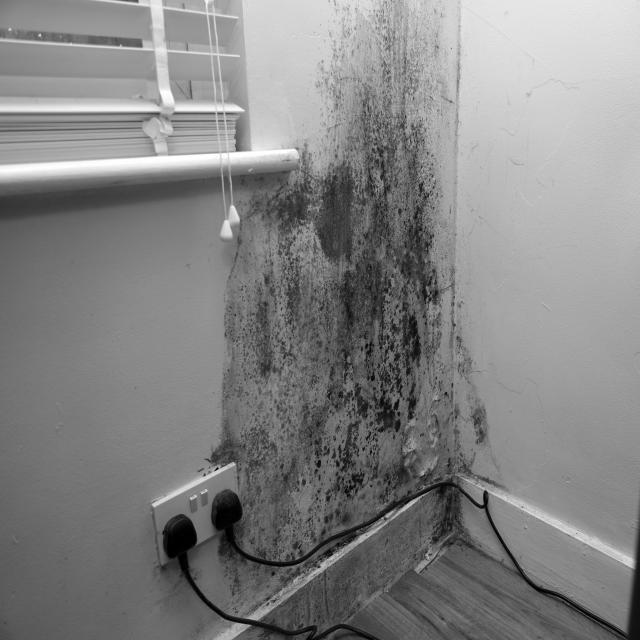stain marks: (206, 0, 495, 640)
